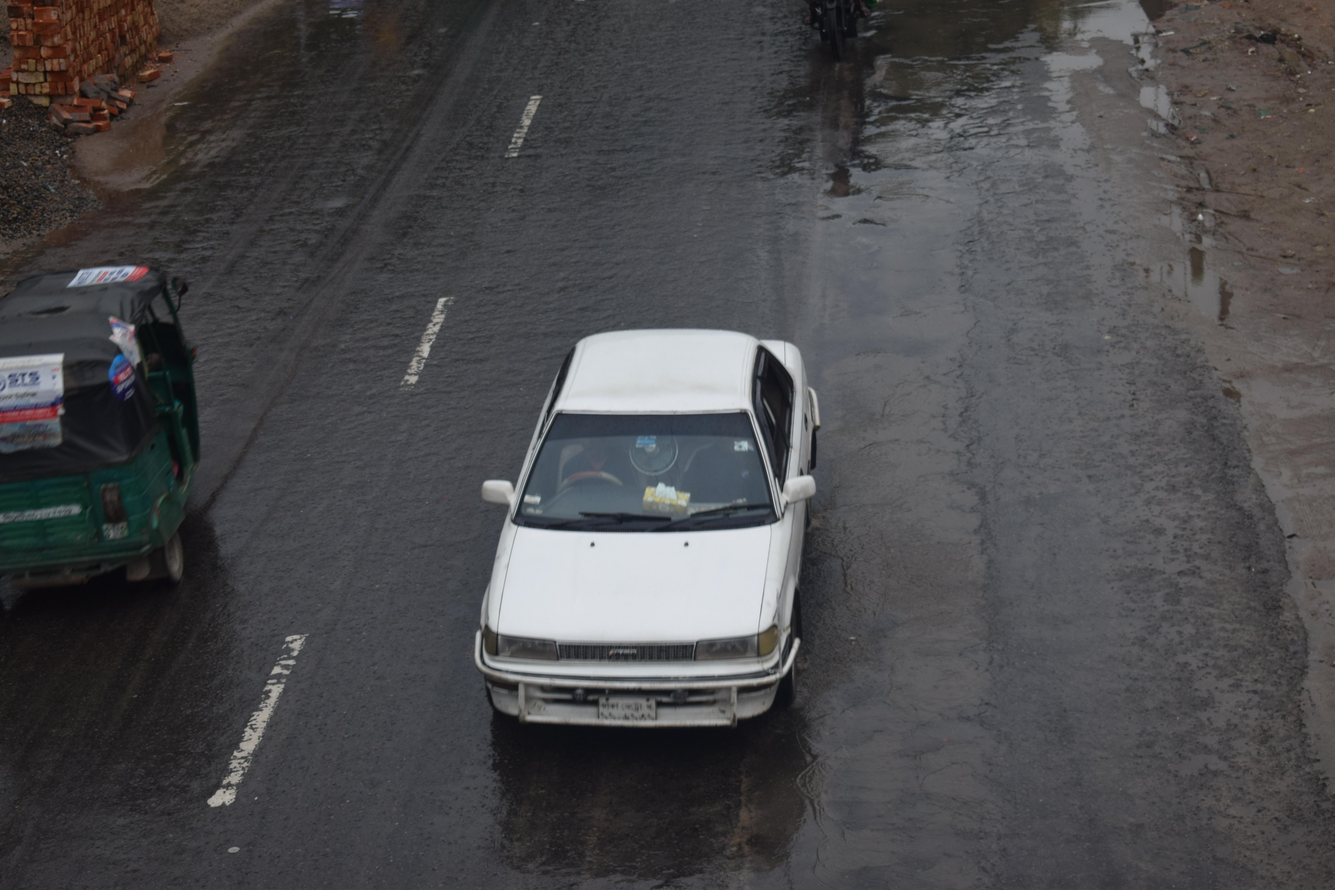Car: (357, 255, 919, 787)
